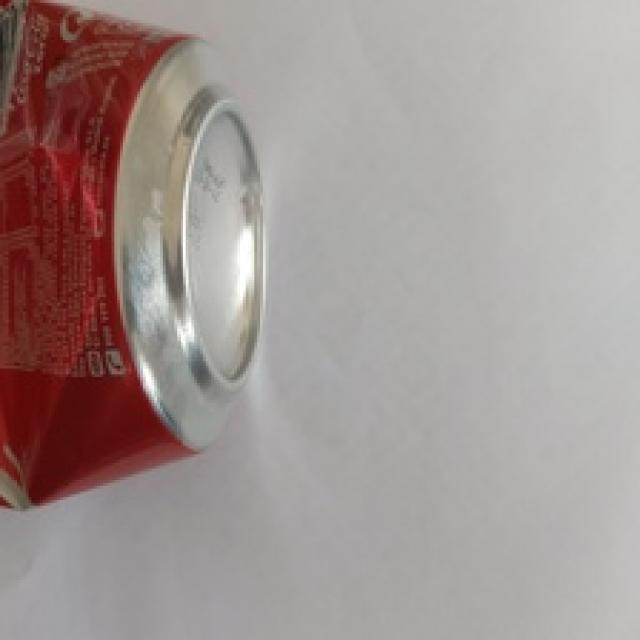recyclable: (0, 0, 267, 511)
